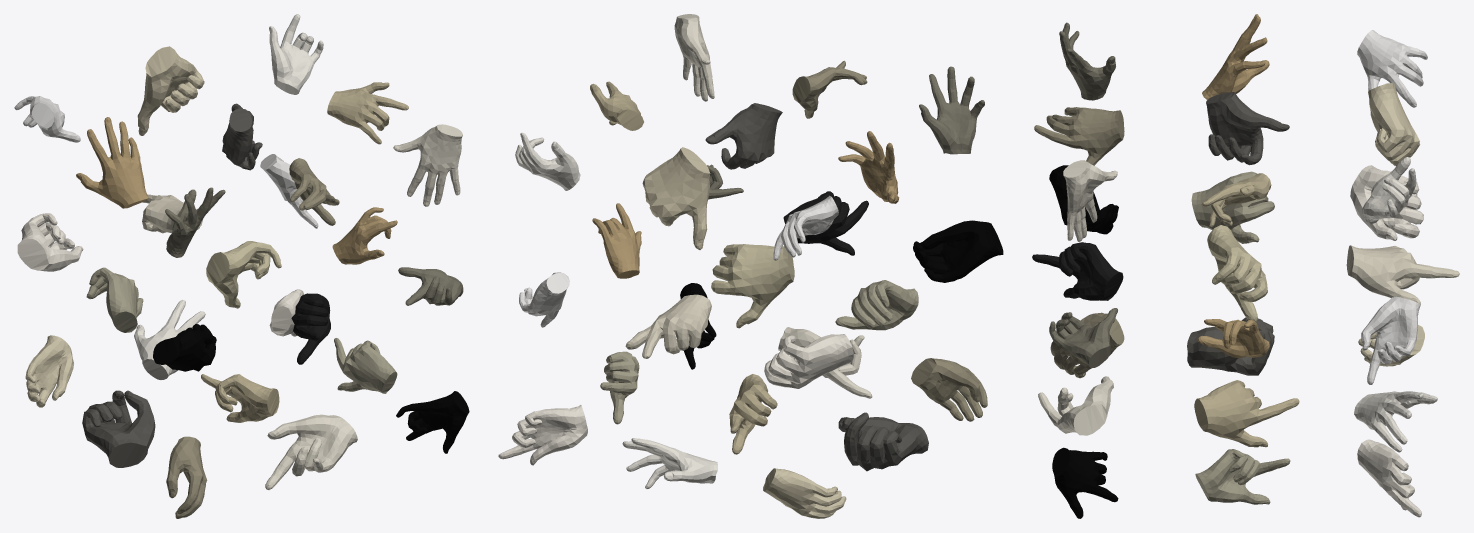
3 renders of one model, left to right at view 1: azimuth 30°, elevation 25°; view 2: azimuth 150°, elevation 25°; view 3: azimuth 270°, elevation 25°, orthographic. The views are drawn at different scales.
Visible parts, largest first — view 1: hand_1, hand_11, hand_7, hand_15, hand_26, hand_3, hand_13, hand_24, hand_25, hand_10, hand_0, hand_19 (+15 smaller); view 2: hand_13, hand_15, hand_5, hand_1, hand_3, hand_18, hand_2, hand_8, hand_16, hand_12, hand_4, hand_0 (+14 smaller); view 3: hand_10, hand_16, hand_12, hand_17, hand_13, hand_21, hand_14, hand_19, hand_6, hand_15, hand_20, hand_11 (+15 smaller).
Boxes of the visible parts, x1=… form: hand_1: x1=82, y1=390, x2=155, y2=467; hand_11: x1=265, y1=414, x2=357, y2=489; hand_7: x1=76, y1=117, x2=148, y2=208; hand_15: x1=137, y1=46, x2=204, y2=135; hand_26: x1=393, y1=124, x2=462, y2=206; hand_3: x1=17, y1=213, x2=83, y2=271; hand_13: x1=206, y1=241, x2=281, y2=308; hand_24: x1=269, y1=14, x2=323, y2=94; hand_25: x1=327, y1=82, x2=408, y2=144; hand_10: x1=201, y1=374, x2=279, y2=422; hand_0: x1=25, y1=335, x2=73, y2=407; hand_19: x1=334, y1=338, x2=397, y2=393; hand_13: x1=711, y1=244, x2=794, y2=328; hand_15: x1=642, y1=147, x2=710, y2=249; hand_5: x1=913, y1=220, x2=1003, y2=282; hand_1: x1=838, y1=412, x2=928, y2=471; hand_3: x1=764, y1=334, x2=853, y2=388; hand_18: x1=498, y1=405, x2=587, y2=465; hand_2: x1=911, y1=358, x2=987, y2=421; hand_8: x1=919, y1=66, x2=984, y2=154; hand_16: x1=705, y1=103, x2=782, y2=169; hand_12: x1=625, y1=294, x2=711, y2=358; hand_4: x1=835, y1=280, x2=918, y2=330; hand_0: x1=763, y1=468, x2=846, y2=518; hand_10: x1=1194, y1=380, x2=1299, y2=447; hand_16: x1=1206, y1=92, x2=1289, y2=165; hand_12: x1=1346, y1=245, x2=1459, y2=304; hand_17: x1=1034, y1=107, x2=1124, y2=165; hand_13: x1=1207, y1=225, x2=1267, y2=321; hand_21: x1=1361, y1=296, x2=1420, y2=384; hand_14: x1=1032, y1=242, x2=1123, y2=300; hand_19: x1=1195, y1=449, x2=1290, y2=504; hand_6: x1=1357, y1=30, x2=1427, y2=107; hand_15: x1=1368, y1=83, x2=1420, y2=166; hand_20: x1=1052, y1=447, x2=1118, y2=518; hand_11: x1=1038, y1=376, x2=1113, y2=435.
Size of the model in its own units: 90.87 by 91.9 by 97.12.
